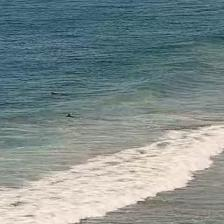surfer: (66, 113, 74, 118), (51, 92, 59, 96)
